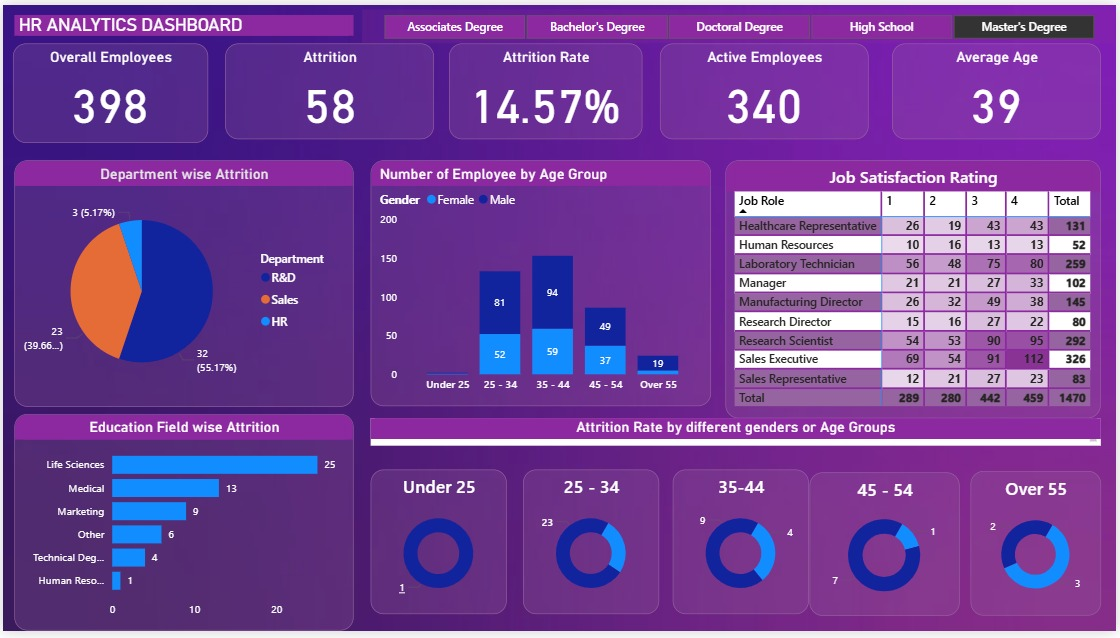

The page's visual inventory and layout, read from the dashboard file:
{"tool":"powerbi","page":{"name":"Page 1","canvas":[1280,720],"ordinal":0},"visuals":[{"type":"cardVisual","title":"Overall Employees","fields":{"Data":["Sum(HR data.Employee Count)"]},"box":[11.4,44.3,224.3,114.3],"z":0},{"type":"cardVisual","title":"Attrition","fields":{"Data":["Sum(HR data.Attrition Count)"]},"box":[255,45,240,110],"z":1000},{"type":"cardVisual","title":"Attrition Rate","fields":{"Data":["HR data.Attrition Rate"]},"box":[512.5,45,222.5,110],"z":2000},{"type":"cardVisual","title":"Active Employees","fields":{"Data":["HR data.Active Employees"]},"box":[755,45,240,110],"z":3000},{"type":"cardVisual","title":"Average Age","fields":{"Data":["Avg(HR data.Age)"]},"box":[1022.5,45,240,110],"z":4000},{"type":"pieChart","title":"Department wise Attrition","fields":{"Category":["HR data.Department"],"Y":["Sum(HR data.Attrition Count)"]},"box":[13.3,178.3,390,283.3],"z":5000},{"type":"columnChart","title":"Number of Employee by Age Group","fields":{"Category":["HR data.CF_age band"],"Y":["Sum(HR data.Employee Count)"],"Series":["HR data.Gender"]},"box":[423.8,178.8,391.2,282.5],"z":6000},{"type":"pivotTable","title":"Job Satisfaction Rating","fields":{"Rows":["HR data.Job Role"],"Columns":["HR data.Job Satisfaction"],"Values":["Sum(HR data.Employee Count)"]},"box":[831.7,178.3,431.7,296.7],"z":7000},{"type":"barChart","title":"Education Field wise Attrition","fields":{"Category":["HR data.Education Field"],"Y":["Sum(HR data.Attrition Count)"]},"box":[13,471,390,249],"z":8000},{"type":"donutChart","title":"Under 25","fields":{"Category":["HR data.Gender"],"Y":["Sum(HR data.Attrition Count)"],"Series":["HR data.CF_age band"]},"box":[423.3,535,156.7,166.7],"z":9000},{"type":"textbox","title":"Attrition Rate by different genders or Age Groups","box":[423.3,475,840,31.7],"z":10000},{"type":"donutChart","title":"25 - 34","fields":{"Category":["HR data.Gender"],"Y":["Sum(HR data.Attrition Count)"],"Series":["HR data.CF_age band"]},"box":[598.3,535,156.7,166.7],"z":11000},{"type":"donutChart","title":"35-44","fields":{"Category":["HR data.Gender"],"Y":["Sum(HR data.Attrition Count)"],"Series":["HR data.CF_age band"]},"box":[770,535,156.7,166.7],"z":12000},{"type":"donutChart","title":"45 - 54","fields":{"Category":["HR data.Gender"],"Y":["Sum(HR data.Attrition Count)"],"Series":["HR data.CF_age band"]},"box":[927.5,537.5,172.5,165],"z":13000},{"type":"donutChart","title":"Over 55","fields":{"Category":["HR data.Gender"],"Y":["Sum(HR data.Attrition Count)"],"Series":["HR data.CF_age band"]},"box":[1112.5,536.2,150,166.2],"z":14000},{"type":"textbox","title":"HR ANALYTICS DASHBOARD","box":[13.8,11.2,390,23.8],"z":14001},{"type":"slicer","fields":{"Values":["HR data.Education"]},"box":[413.8,5,866.2,38.8],"z":14002}]}

Visuals, with their boxes in screenshot pixels (x1, y1, x2, y2), scaled from the page's 1280x720 canvas onto the 1120x638 screenshot:
"Overall Employees" cardVisual: [10, 39, 206, 141]
"Attrition" cardVisual: [223, 40, 433, 137]
"Attrition Rate" cardVisual: [448, 40, 643, 137]
"Active Employees" cardVisual: [661, 40, 871, 137]
"Average Age" cardVisual: [895, 40, 1105, 137]
"Department wise Attrition" pieChart: [12, 158, 353, 409]
"Number of Employee by Age Group" columnChart: [371, 158, 713, 409]
"Job Satisfaction Rating" pivotTable: [728, 158, 1105, 421]
"Education Field wise Attrition" barChart: [11, 417, 353, 637]
"Under 25" donutChart: [370, 474, 508, 622]
"Attrition Rate by different genders or Age Groups" textbox: [370, 421, 1105, 449]
"25 - 34" donutChart: [524, 474, 661, 622]
"35-44" donutChart: [674, 474, 811, 622]
"45 - 54" donutChart: [812, 476, 962, 622]
"Over 55" donutChart: [973, 475, 1105, 622]
"HR ANALYTICS DASHBOARD" textbox: [12, 10, 353, 31]
slicer - HR data.Education: [362, 4, 1119, 39]
